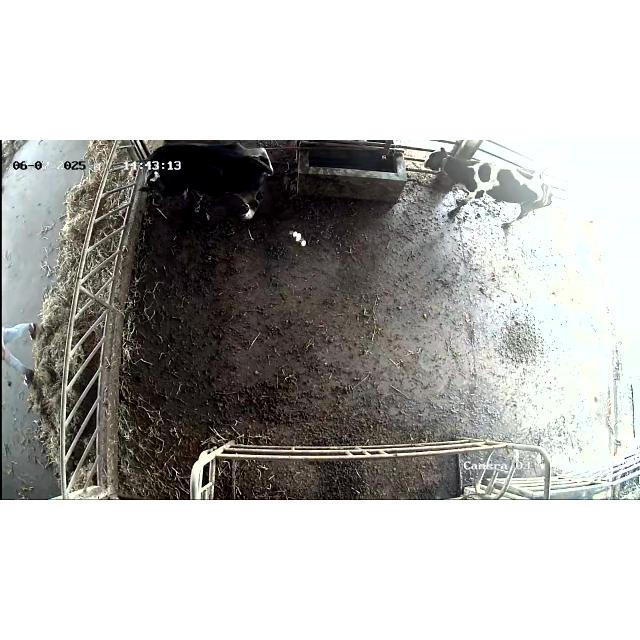stand: (422, 140, 560, 236), (142, 142, 282, 235)
